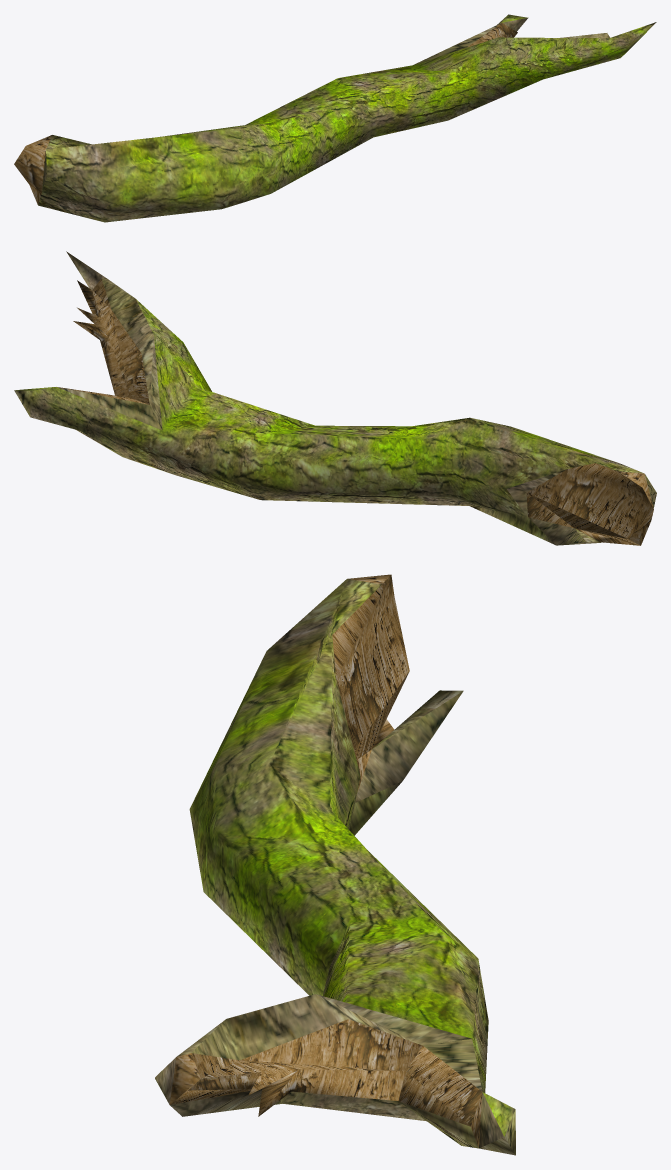
File: sb_obj_ruins010_log02_col.fbx
The picture shows the model from 3 angles, top to bottom: view 1: azimuth 30°, elevation 25°; view 2: azimuth 150°, elevation 25°; view 3: azimuth 270°, elevation 25°; orthographic projection. The views are drawn at different scales.
Parts seen in each view (by area): view 1: sb_obj_ruins010_log02_col; view 2: sb_obj_ruins010_log02_col; view 3: sb_obj_ruins010_log02_col.
Part boxes in pixels (left/top/right/bottom): sb_obj_ruins010_log02_col: left=14, top=14, right=656, bottom=222; sb_obj_ruins010_log02_col: left=14, top=251, right=656, bottom=545; sb_obj_ruins010_log02_col: left=155, top=574, right=515, bottom=1155.
Size of the model in its own units: 3.06 by 0.5436 by 0.8207.
